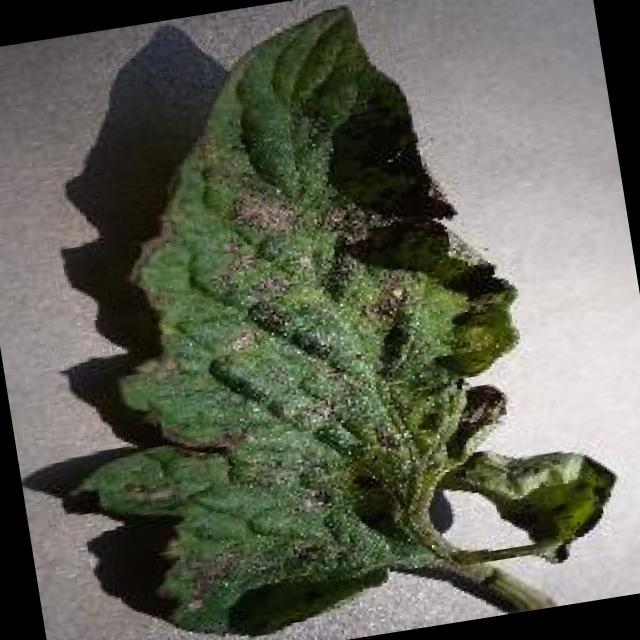Tomato_Early_Blight: (24, 0, 610, 630)
